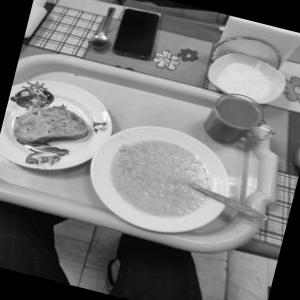cheese_sandwich: (2, 94, 98, 164)
coffee: (200, 84, 280, 158)
porridge: (96, 114, 234, 236)
